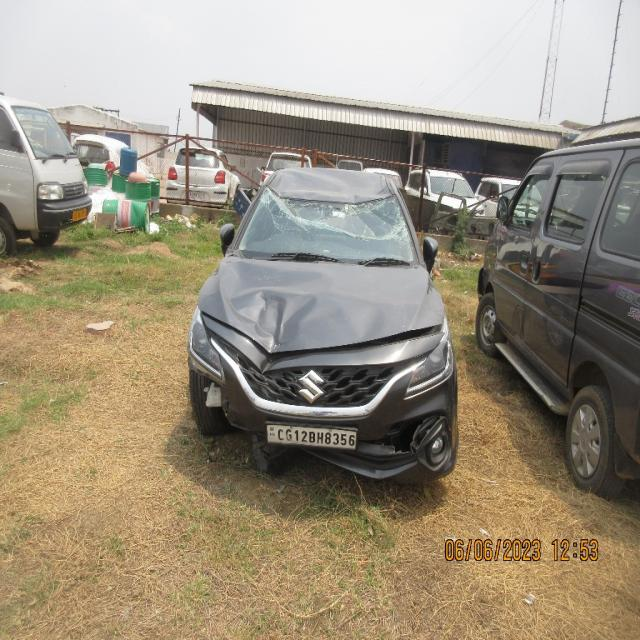damage: (220, 254, 396, 339), (210, 308, 433, 362), (265, 183, 401, 240), (278, 165, 396, 207), (381, 408, 453, 469), (191, 360, 243, 422)
